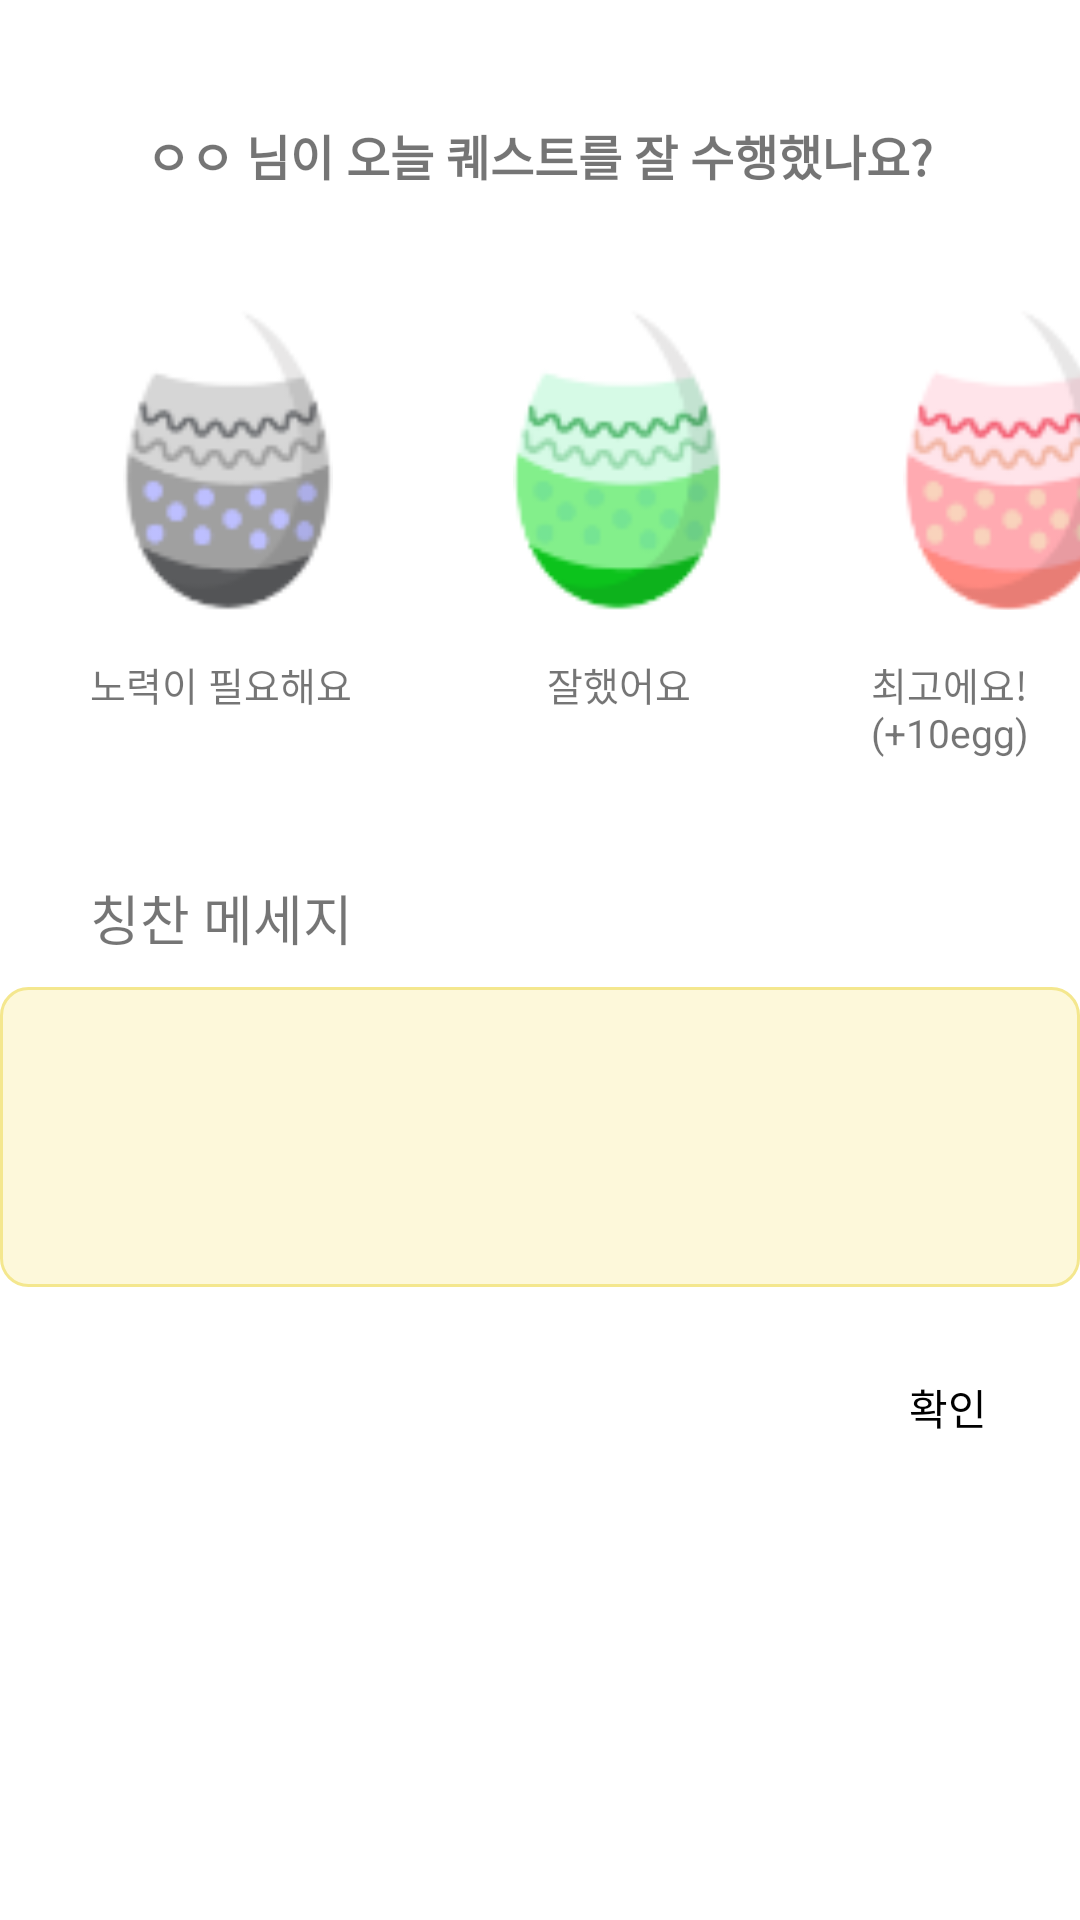

Icon bounding boxes for this 1080px x 1920px phone screenshot, format (x1, y1, x2, y2):
blackegg: (126, 373, 331, 609)
greenegg: (515, 372, 720, 610)
